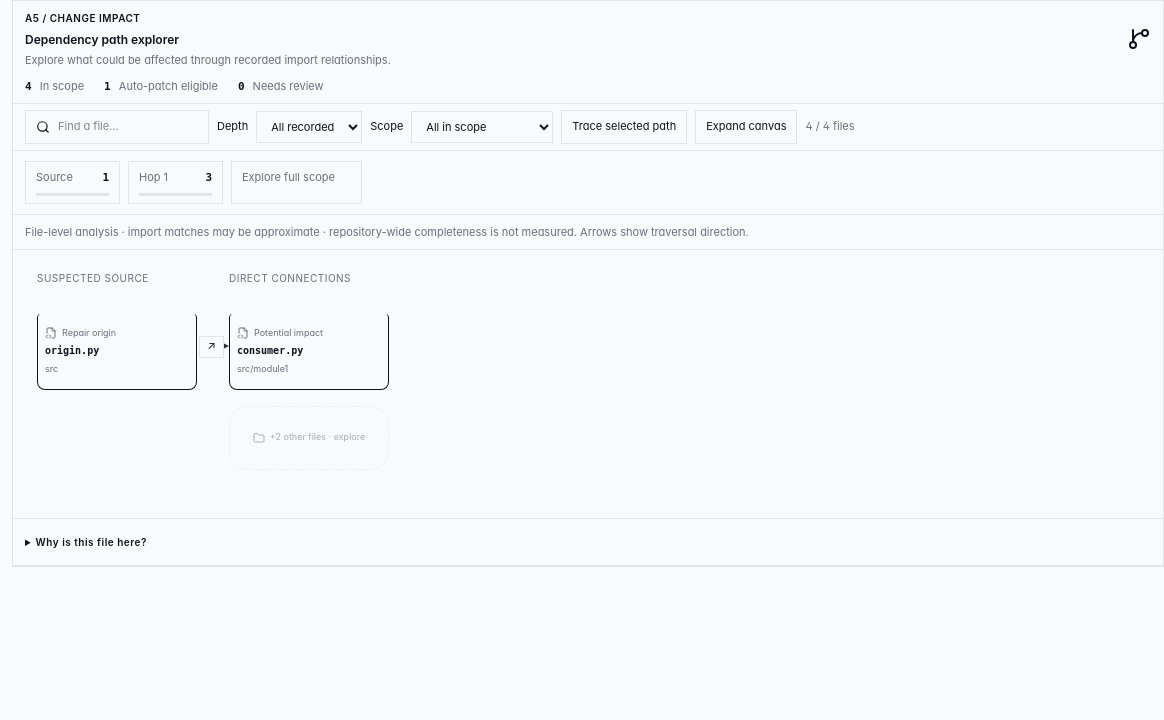
it: filters patch eligibility while preserving source context
Select "Auto-patch eligible" in the dropdown named "Patch eligibility filter": (482, 127) [411, 111, 553, 143]
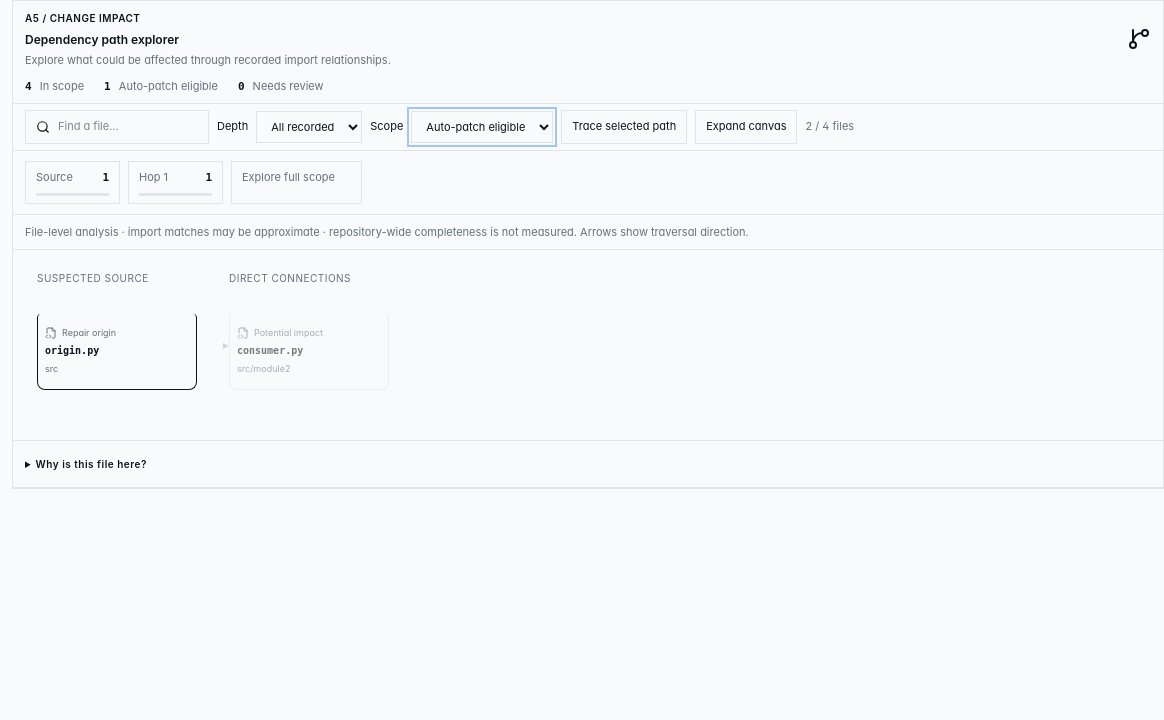
Expected: the button with aria-label "Inspect src/origin.py" is shown, [37, 314, 197, 390]
Now the button with aria-label "Inspect src/module2/consumer.py" is shown, box [229, 314, 389, 390]
